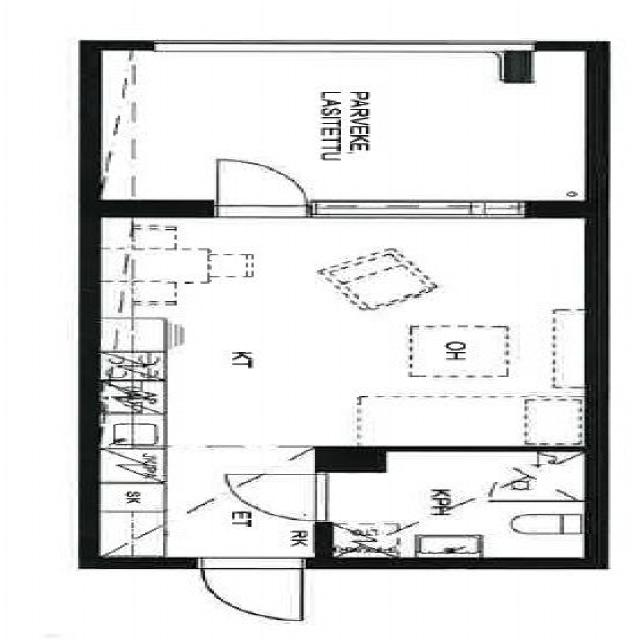door: (200, 558, 304, 622), (216, 154, 307, 217), (224, 474, 324, 520)
